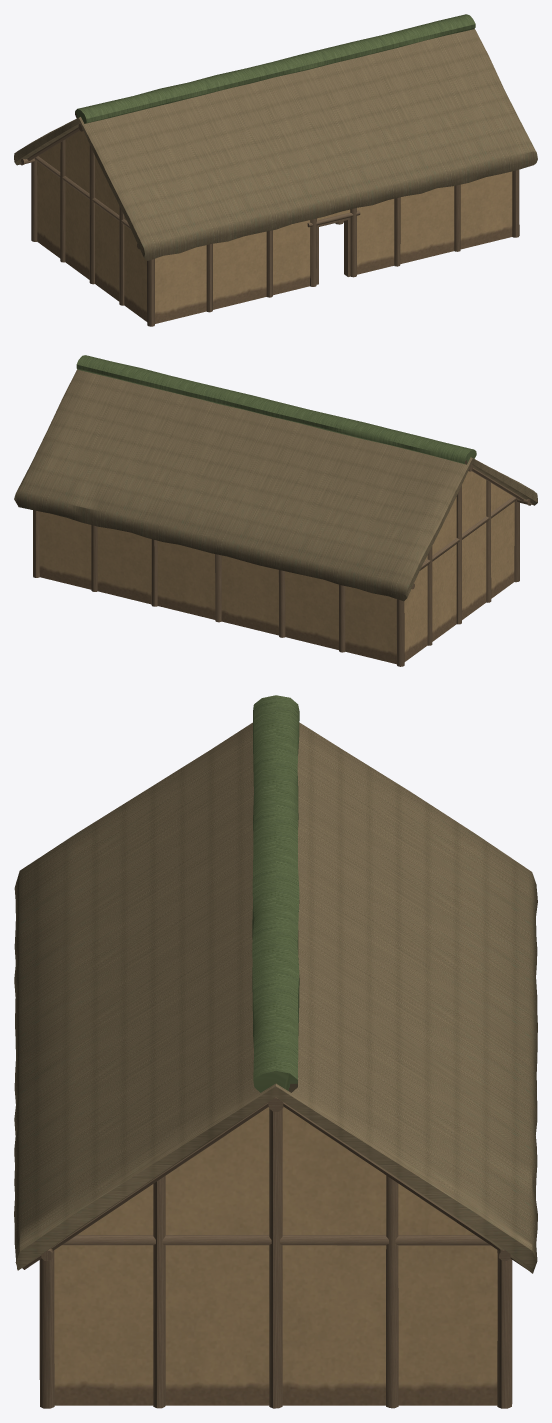
The model's file is house_002.glb.
3 views of the same model, one above another, from view 1: azimuth 30°, elevation 25°; view 2: azimuth 150°, elevation 25°; view 3: azimuth 270°, elevation 25° (orthographic). The views are drawn at different scales.
Parts seen in each view (by area): view 1: Roof, Wall, Frame, DoorRecess; view 2: Roof, Wall, Frame; view 3: Roof, Wall, Frame.
Boxes of the visible parts, x1,y1,x2,y2 form: Roof: (14,14,537,260); Wall: (37,131,512,323); Frame: (20,124,519,326); DoorRecess: (316,217,350,284); Roof: (14,355,537,601); Wall: (39,471,514,664); Frame: (33,464,531,666); Roof: (14,695,537,1273); Wall: (54,1106,497,1405); Frame: (22,1097,525,1408).
Size of the model in its own units: 10.8 by 4.6 by 6.3.
Materials: 3 (3 with a texture image).
